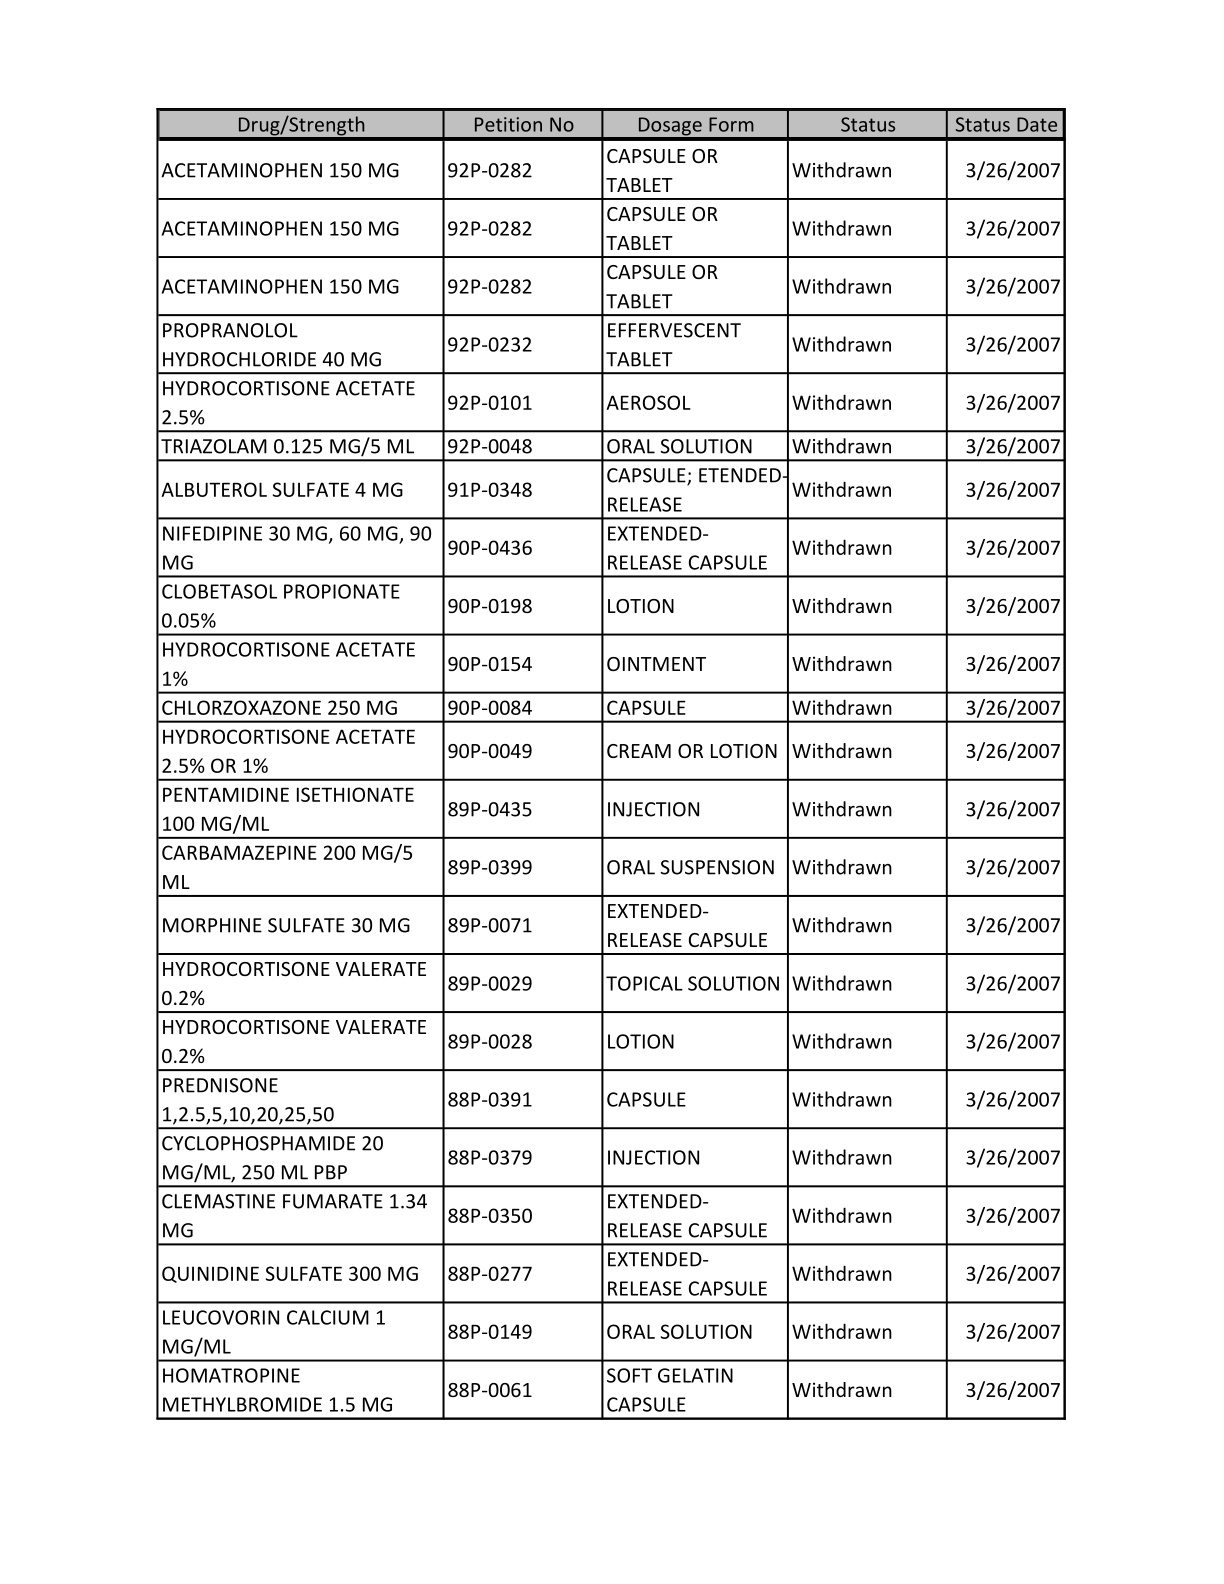full_lined: (156, 108, 1066, 1421)
